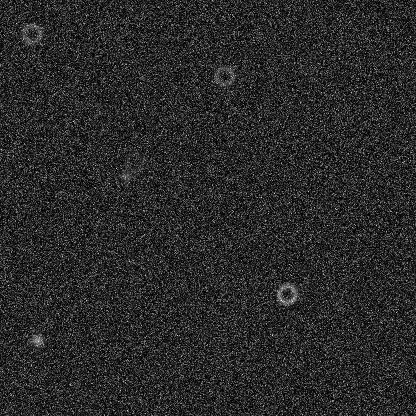Ring: (19, 21, 43, 45), (275, 282, 299, 306), (212, 64, 236, 88), (122, 150, 146, 174)
Spot: (117, 168, 133, 184), (29, 332, 45, 348)
